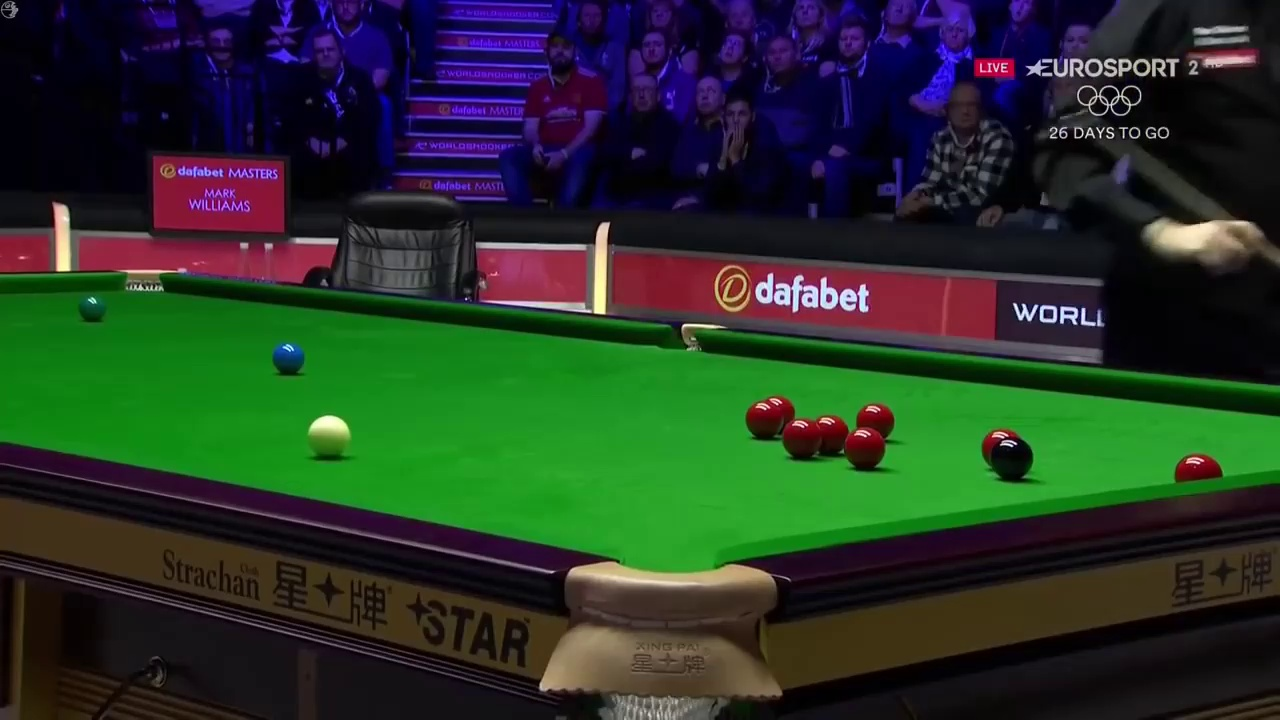ball: (306, 414, 357, 460), (989, 438, 1035, 478), (781, 417, 822, 457), (268, 341, 310, 376), (844, 429, 884, 465), (744, 401, 780, 436), (79, 296, 106, 320)
